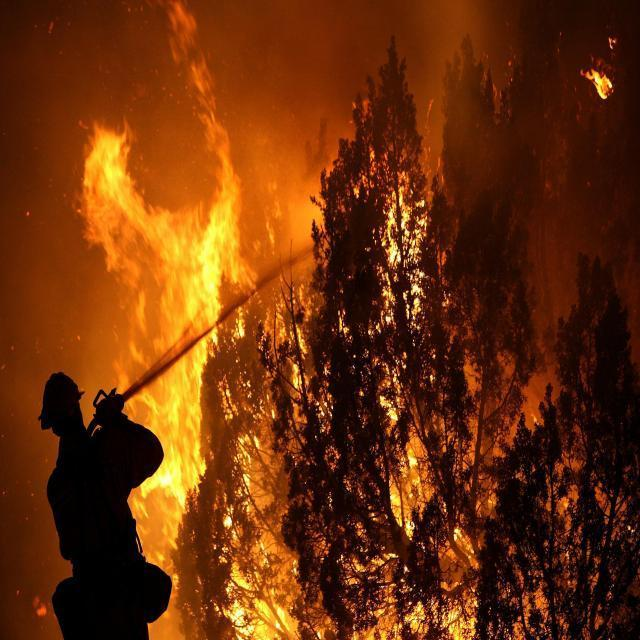Fire: (55, 99, 288, 568), (257, 216, 330, 434), (205, 539, 332, 637), (370, 430, 440, 572)
